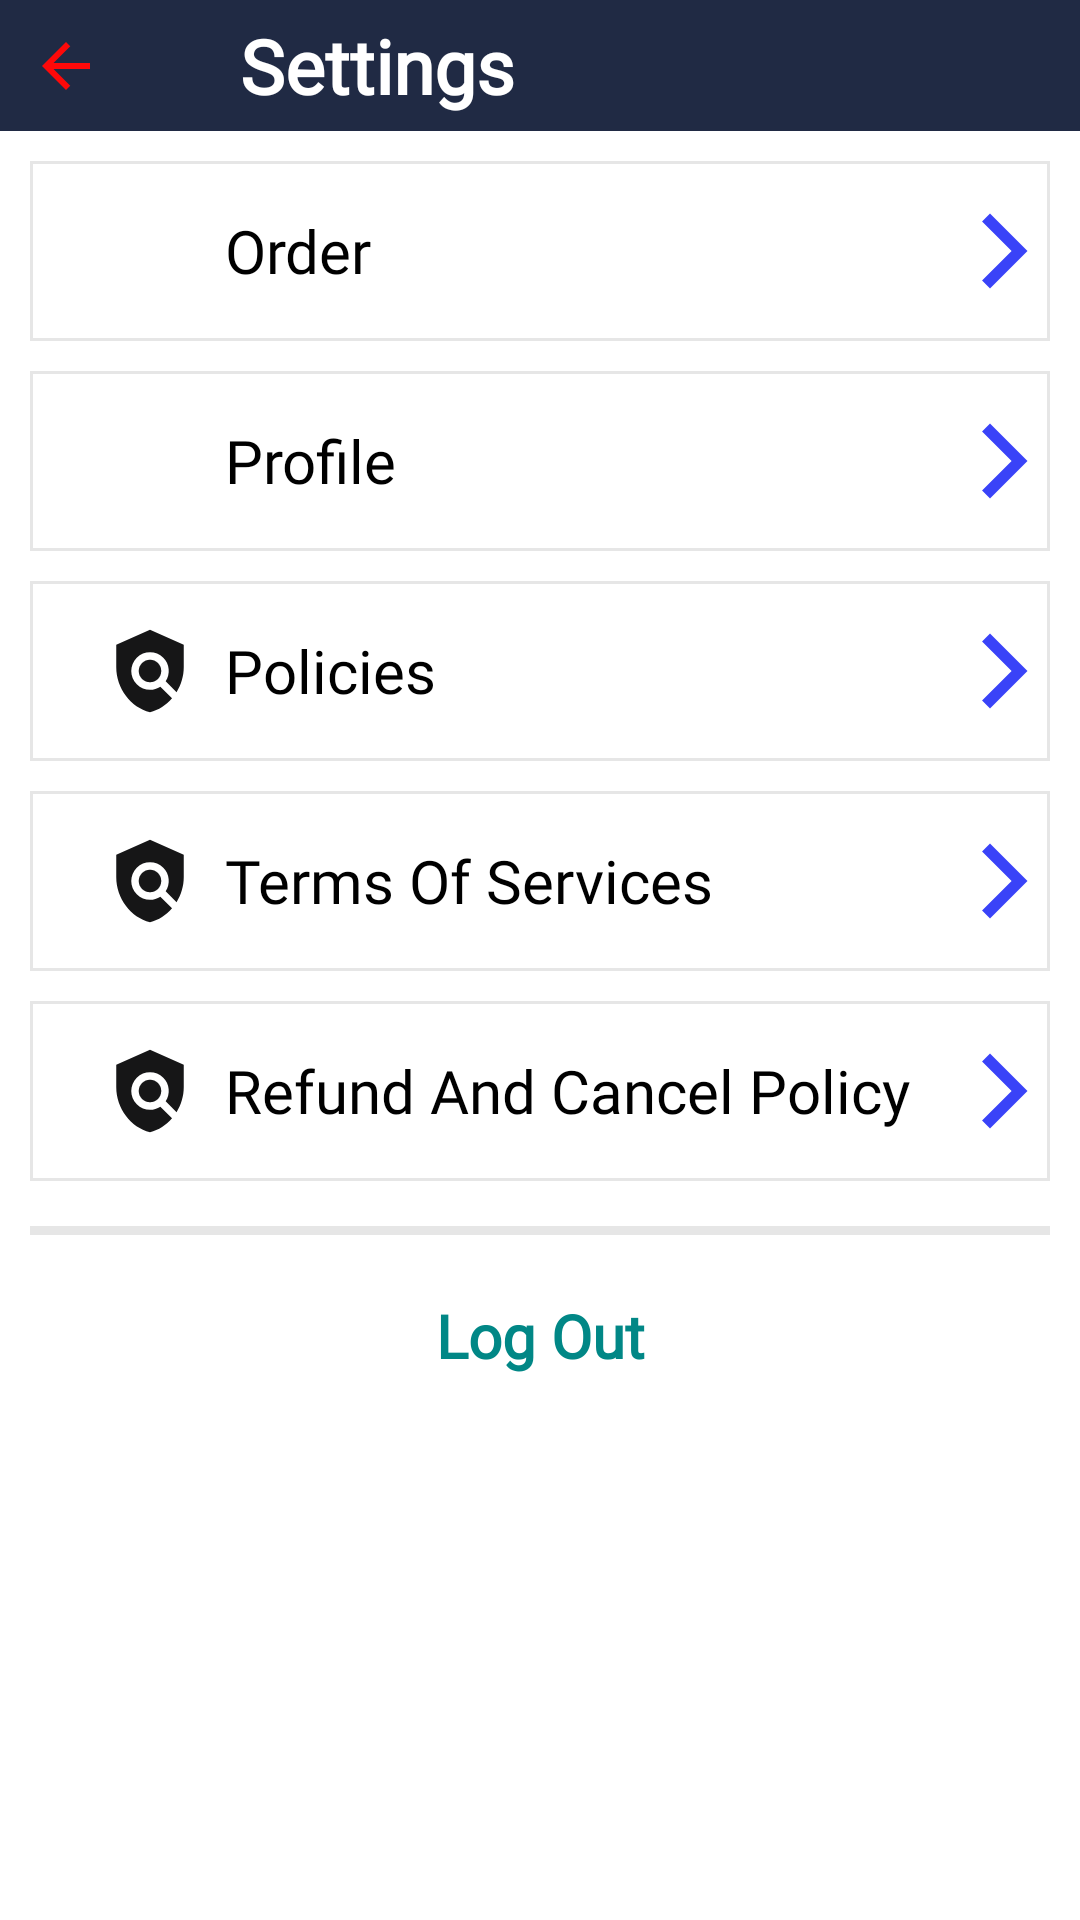

Named icons in this screenshot (1080 × 1920) and their bounding boxes, (x1, y1, x2, y2):
arrow back: (42, 42, 90, 90)
arrow forward: (982, 214, 1027, 288), (982, 424, 1027, 498), (982, 634, 1027, 708), (982, 844, 1027, 918), (982, 1054, 1027, 1128)
